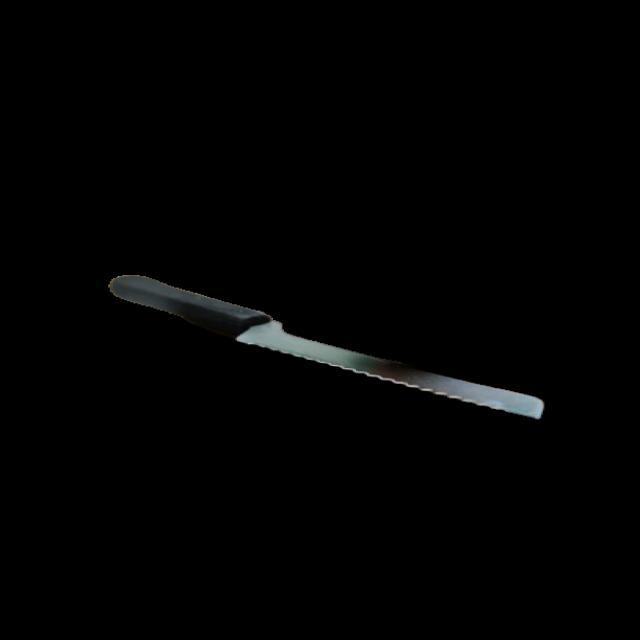knife: (110, 270, 551, 427)
